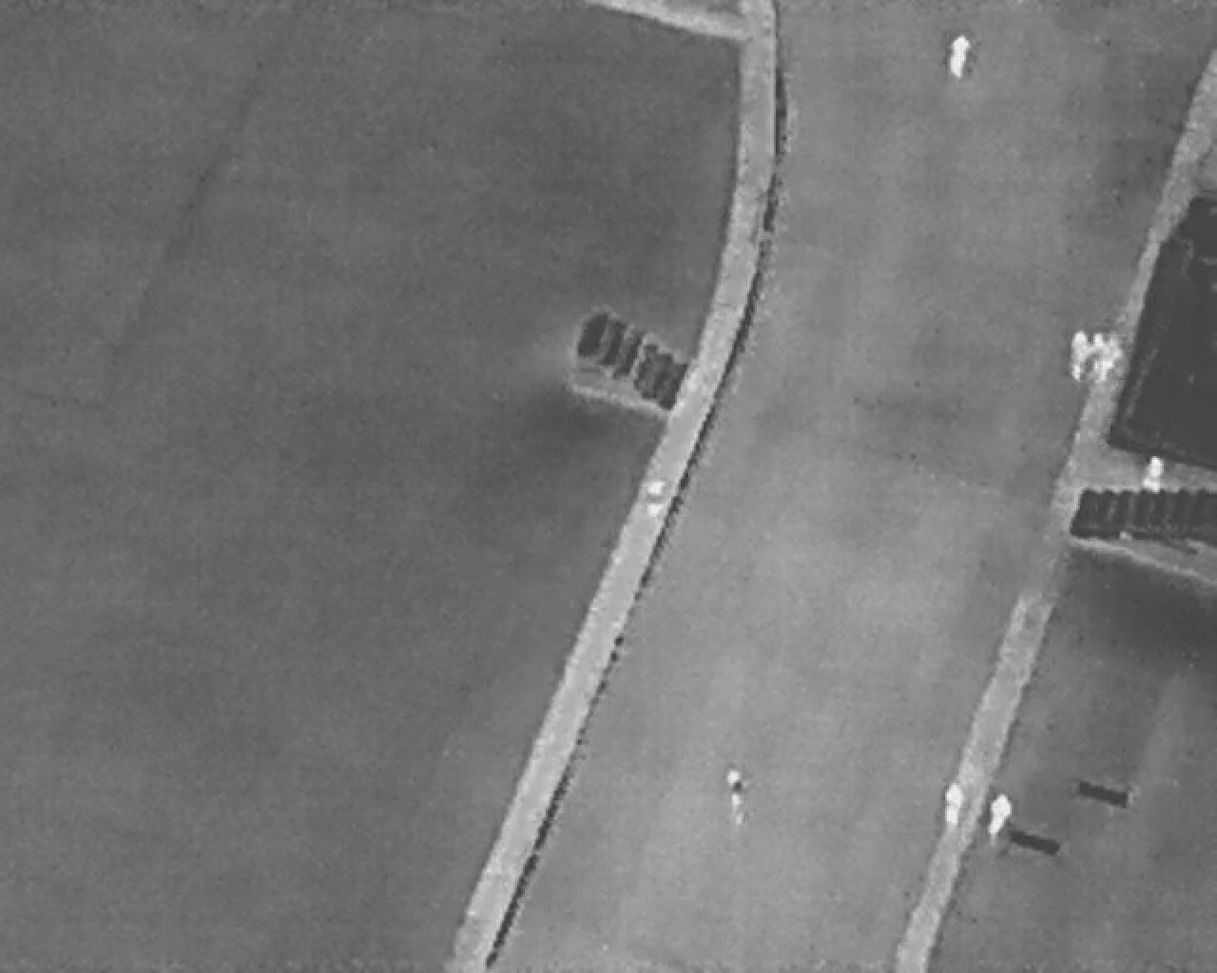person: (980, 788, 1020, 845), (1068, 330, 1092, 385), (642, 482, 672, 525), (1144, 449, 1170, 495), (942, 780, 965, 830), (950, 31, 971, 83), (725, 765, 746, 816), (1089, 335, 1110, 385), (1106, 332, 1127, 377)
